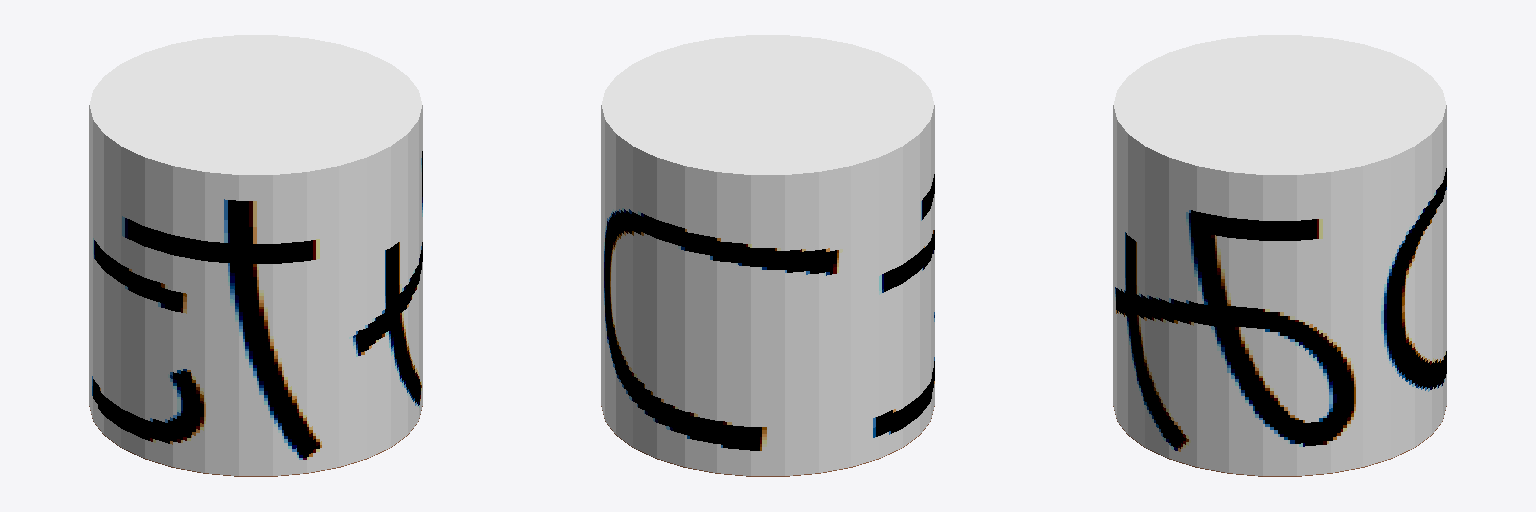
3 views of the same model, side by side, from view 1: azimuth 30°, elevation 25°; view 2: azimuth 150°, elevation 25°; view 3: azimuth 270°, elevation 25° (orthographic).
Parts seen in each view (by area): view 1: obj1; view 2: obj1; view 3: obj1.
Part boxes in pixels (bbox=[...]): obj1: bbox=[89, 35, 422, 476]; obj1: bbox=[601, 35, 934, 476]; obj1: bbox=[1113, 35, 1446, 476].
Size of the model in its own units: 199 by 200 by 200.
1 materials, 1 textured.